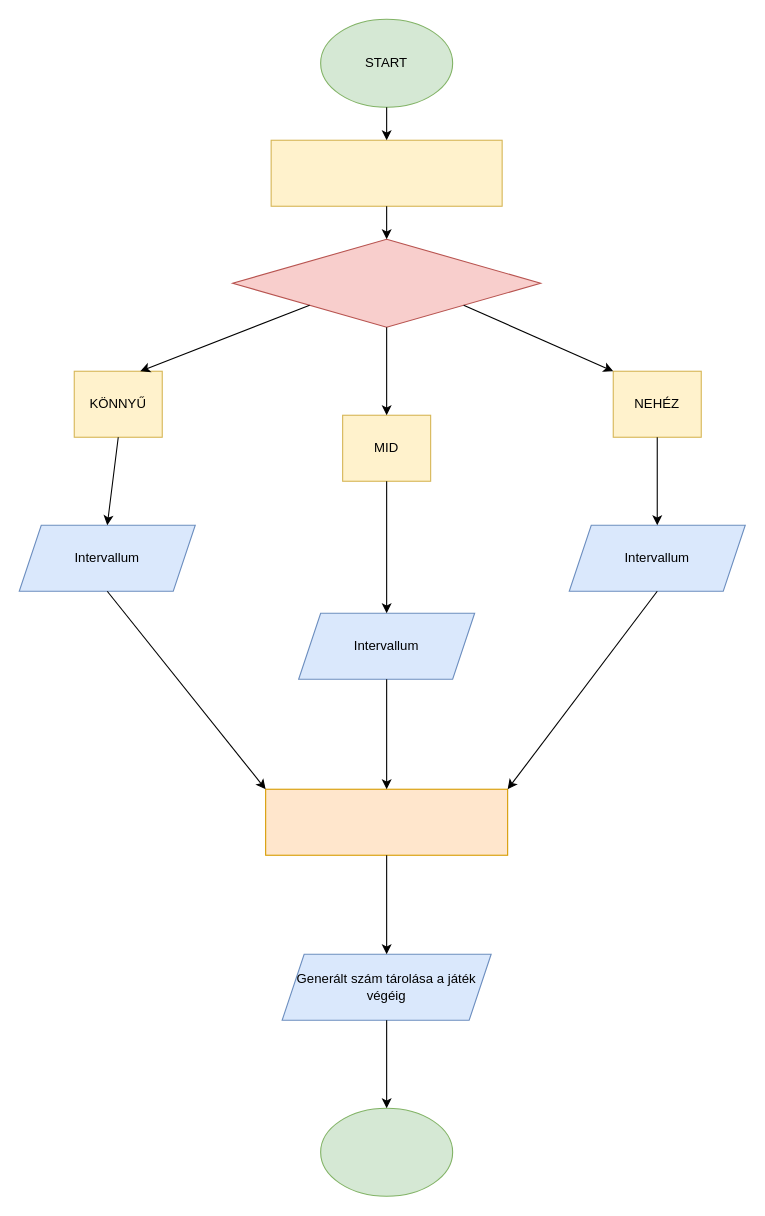
Some shapes in this 765 by 1216 pixel diagram are drawn without their labels. The shapes that lost their labels are listed below. From the top down, each one's centre as x and y in pixels, then its label:
At pixel 386 172: "Szükségünk van egy random számra".
At pixel 386 282: "Milyen nehézségi szinten vagyunk?".
At pixel 386 821: "Számgenerálás a megadott intervallumban".
At pixel 386 1151: "END".
